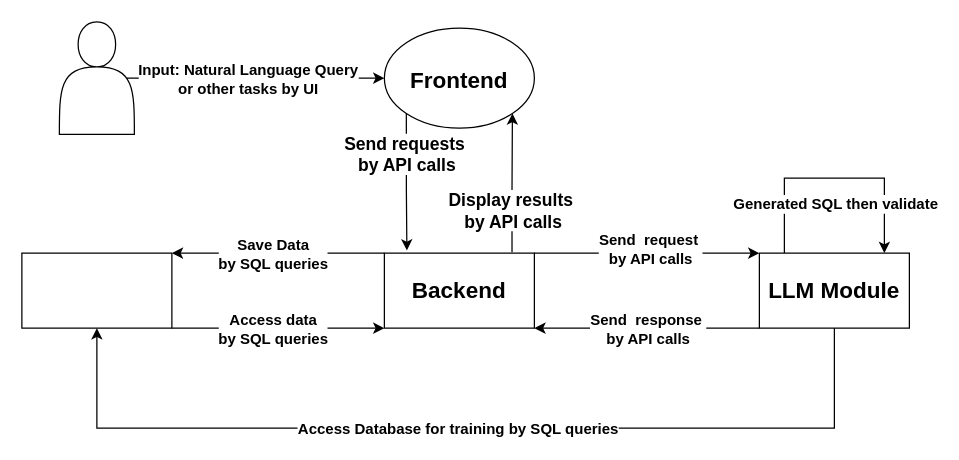
Image size: 959x460. Some labels were removed from this diagram. Each missing label, with the box of its shape:
Database Module: (21, 252, 172, 328)
User: (58, 21, 134, 134)
